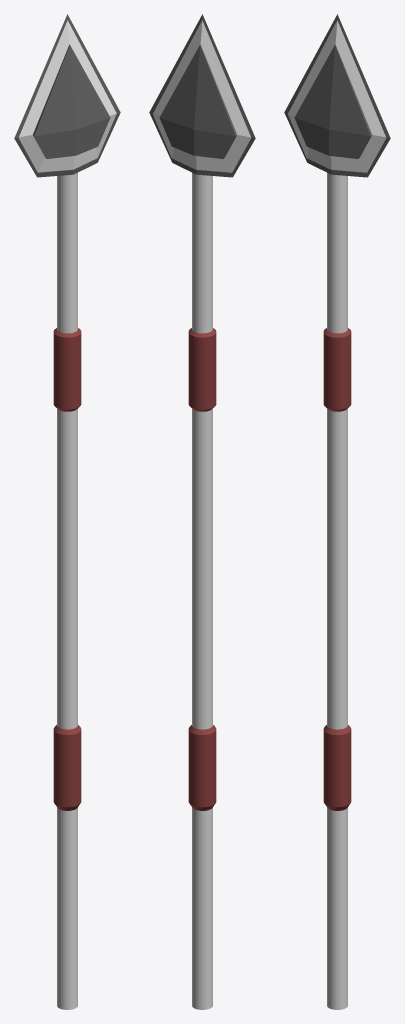
Rendered from spear.fbx.
3 renders of one model, left to right at view 1: azimuth 30°, elevation 25°; view 2: azimuth 150°, elevation 25°; view 3: azimuth 330°, elevation 25°, orthographic.
Visible parts, largest first — view 1: Cylinder.001; view 2: Cylinder.001; view 3: Cylinder.001.
Part boxes in pixels (x1,y1,x2,y2): Cylinder.001: [14, 14, 120, 1009]; Cylinder.001: [149, 14, 255, 1009]; Cylinder.001: [284, 14, 390, 1009].
Size of the model in its own units: 26.33 by 234 by 7.33.
